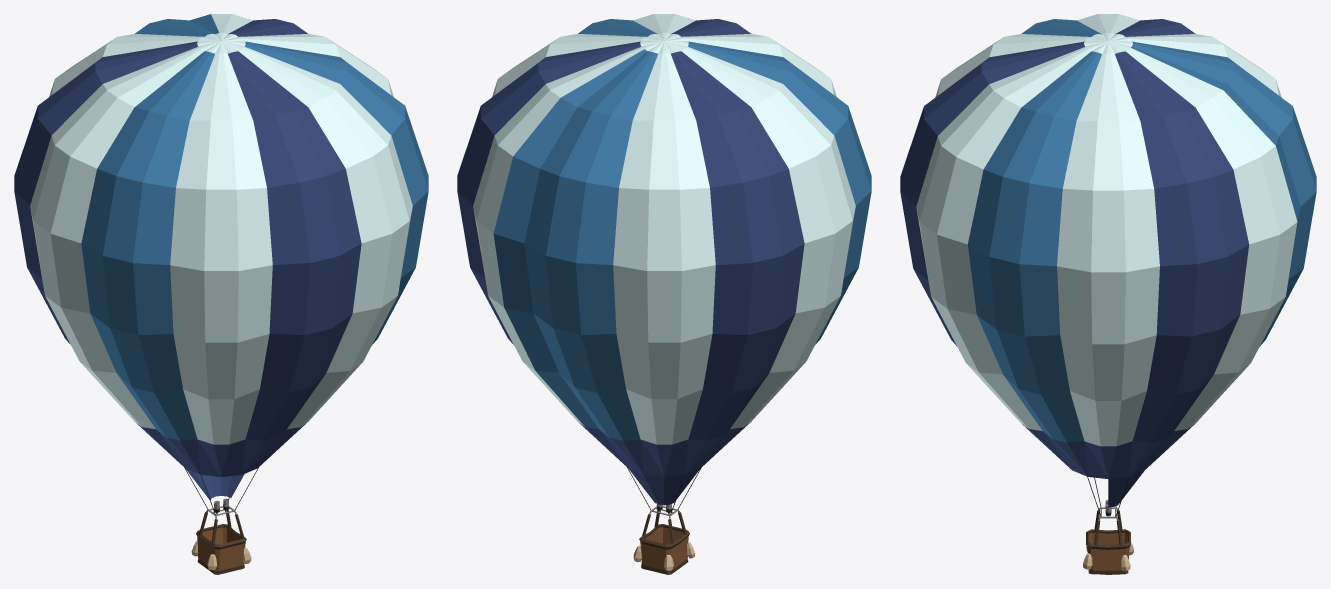
File: vehicles_balloon-stripes.fbx
The picture shows the model from 3 angles, left to right: view 1: azimuth 30°, elevation 25°; view 2: azimuth 150°, elevation 25°; view 3: azimuth 270°, elevation 25°; orthographic projection.
Visible parts, largest first — view 1: vehicles_balloon_stripes; view 2: vehicles_balloon_stripes; view 3: vehicles_balloon_stripes.
Part boxes in pixels (x1,y1,x2,y2): vehicles_balloon_stripes: (14,14,428,574); vehicles_balloon_stripes: (457,14,871,574); vehicles_balloon_stripes: (900,14,1316,574).
Size of the model in its own units: 143 by 200 by 143.
